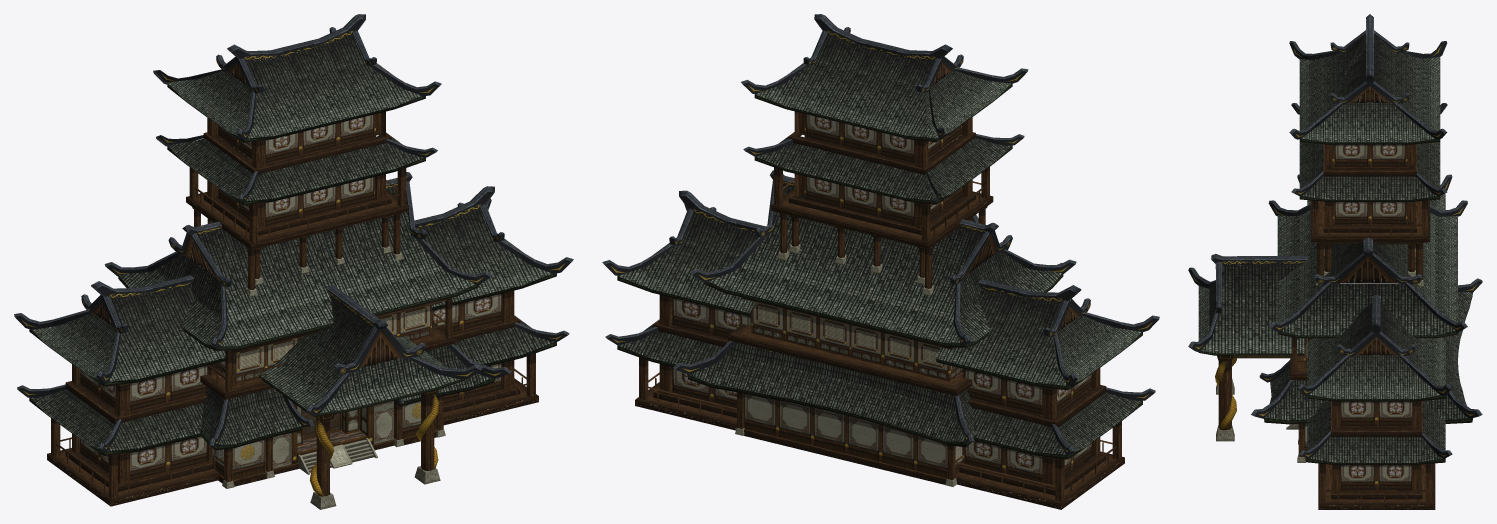
The model's file is guild_pvp_gate.glb.
3 renders of one model, left to right at view 1: azimuth 30°, elevation 25°; view 2: azimuth 150°, elevation 25°; view 3: azimuth 270°, elevation 25°, orthographic. The views are drawn at different scales.
Visible parts, largest first — view 1: objObject323, objObject468, objObject469; view 2: objObject323, objObject468, objObject469; view 3: objObject323, objObject468, objObject469.
Part boxes in pixels (box(x1,y1,x2,y2)): objObject323: box(30, 34, 555, 451); objObject468: box(14, 14, 573, 506); objObject469: box(29, 63, 556, 509); objObject323: box(617, 34, 1141, 454); objObject468: box(602, 14, 1159, 509); objObject469: box(617, 63, 1142, 501); objObject323: box(1198, 34, 1472, 462); objObject468: box(1188, 14, 1482, 509); objObject469: box(1198, 86, 1472, 503).
Bounding box in the file's own units: 44.49 × 36.12 × 25.92.
3 materials, 3 textured.
